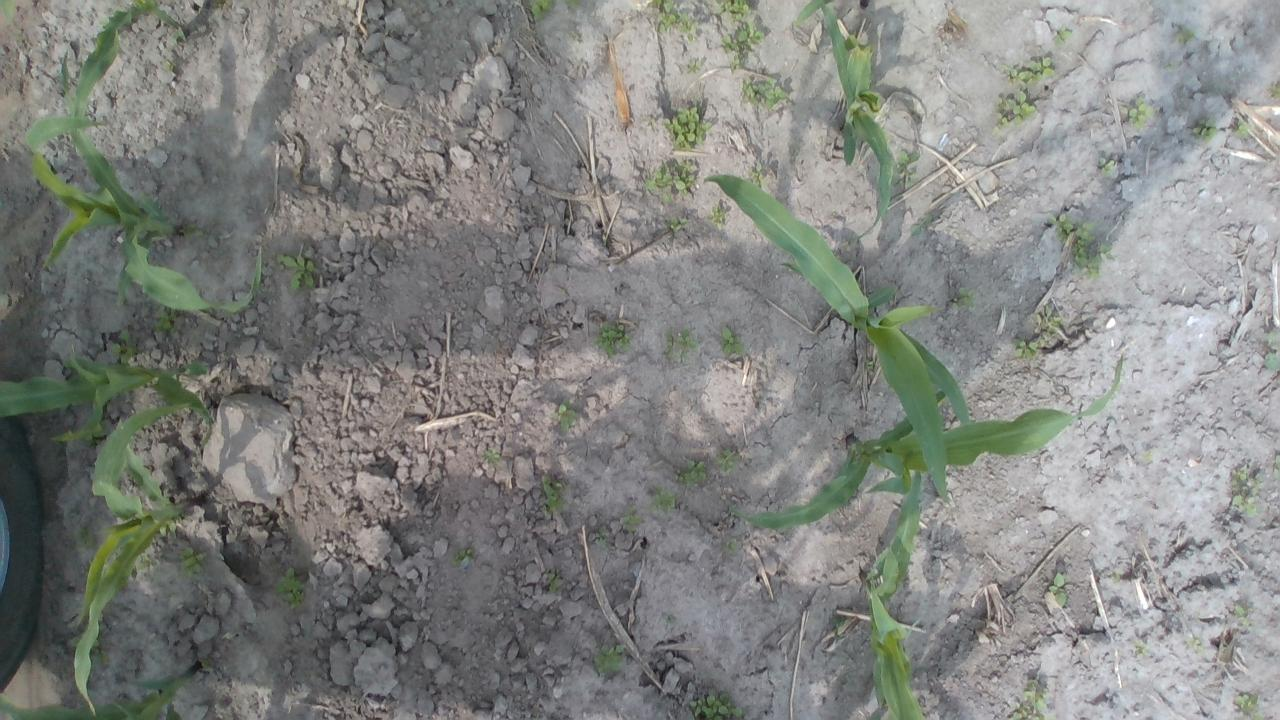Maize: (704, 174, 972, 503), (724, 350, 1126, 530), (24, 114, 264, 316), (70, 402, 206, 718), (2, 343, 225, 446), (70, 0, 200, 143), (819, 1, 896, 237), (858, 470, 924, 720)
Weeds: (1042, 213, 1114, 279), (1013, 302, 1062, 362), (644, 156, 700, 204), (720, 20, 767, 76), (666, 105, 712, 152), (740, 73, 791, 114), (650, 0, 699, 42), (686, 687, 748, 720), (991, 90, 1036, 134), (1010, 677, 1054, 720), (1005, 54, 1058, 87), (273, 565, 305, 612), (592, 322, 632, 359), (1230, 468, 1260, 516), (664, 326, 701, 364), (280, 254, 318, 289), (1128, 91, 1158, 134), (165, 548, 207, 576), (892, 148, 922, 187), (529, 0, 582, 21), (592, 642, 625, 674), (110, 331, 140, 365), (544, 472, 564, 520), (680, 457, 709, 488), (715, 0, 755, 20), (1047, 572, 1070, 606), (1234, 694, 1264, 720), (1188, 118, 1218, 142), (909, 212, 933, 240), (722, 326, 744, 356), (1170, 24, 1197, 48), (716, 445, 740, 472), (952, 286, 975, 314), (1264, 330, 1279, 371), (746, 163, 770, 188), (651, 490, 678, 512), (556, 403, 576, 432), (150, 316, 176, 338), (1234, 605, 1252, 632), (72, 526, 92, 548), (1054, 25, 1072, 48), (1096, 158, 1116, 178), (708, 204, 728, 224), (1236, 118, 1254, 138), (454, 548, 474, 566), (670, 216, 692, 232), (622, 514, 642, 530), (684, 60, 704, 76), (482, 449, 502, 462), (1190, 638, 1206, 654), (592, 526, 606, 544), (1268, 80, 1280, 100), (1108, 570, 1123, 586), (548, 572, 558, 592), (1134, 642, 1147, 657), (726, 541, 737, 550)
